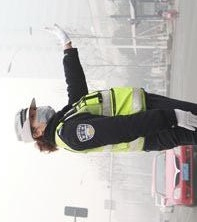person: (14, 24, 197, 154)
